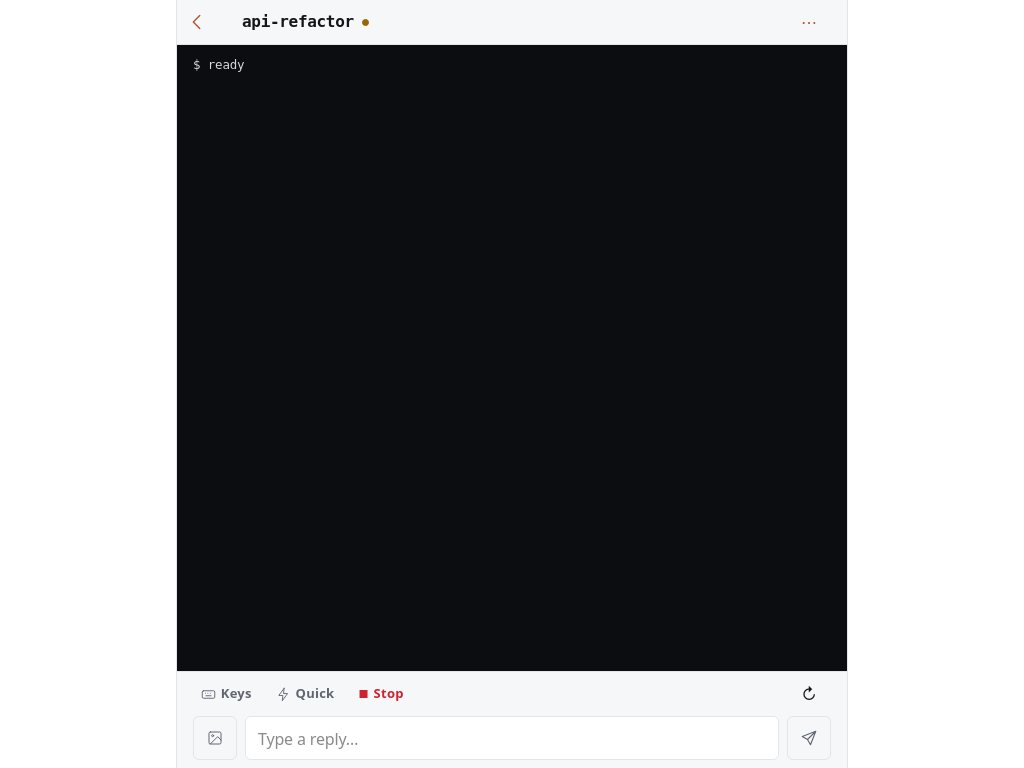
it: the panel closes once something is sent
This screenshot has width=1024, height=768.
Click the button with class "term-quick-toggle" at point(305, 694), box [268, 672, 342, 716]
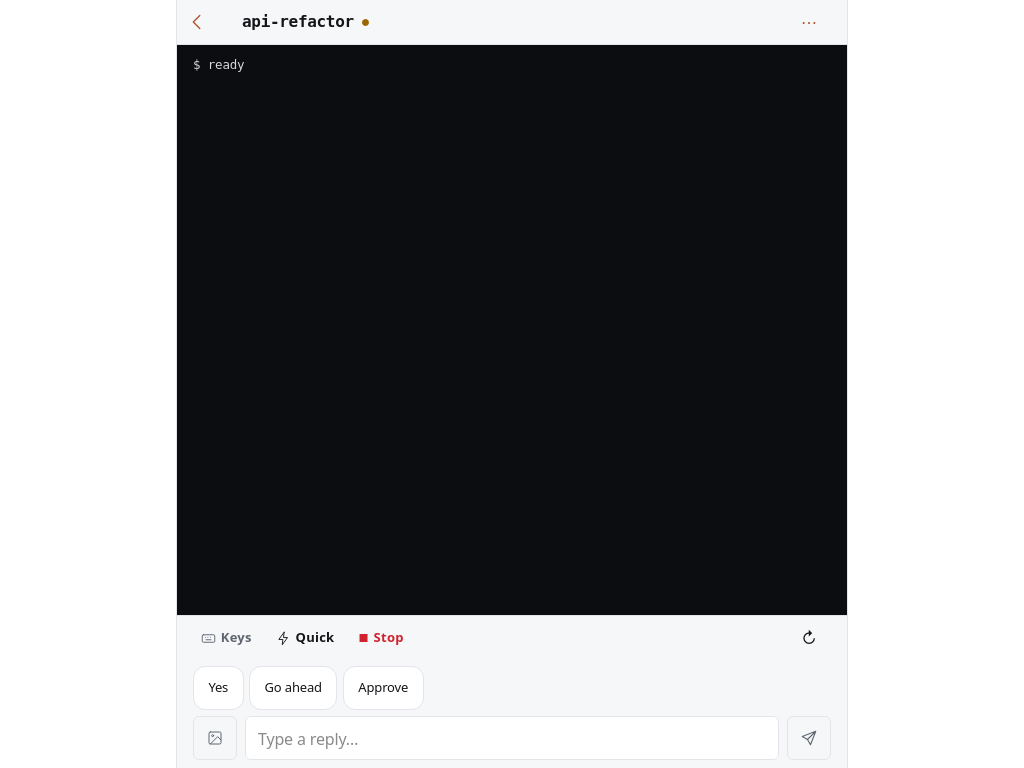
Click the button with class "term-quick-action" at point(218, 688), box [193, 666, 244, 710]
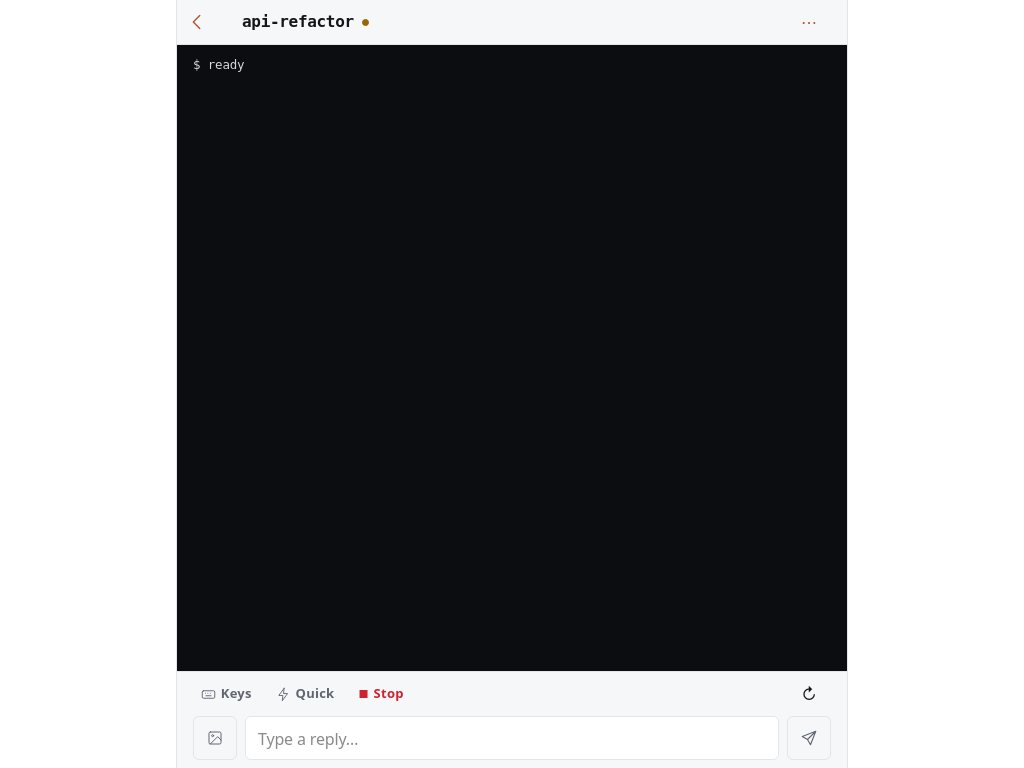
Expected: the element with class "term-quick" is gone
